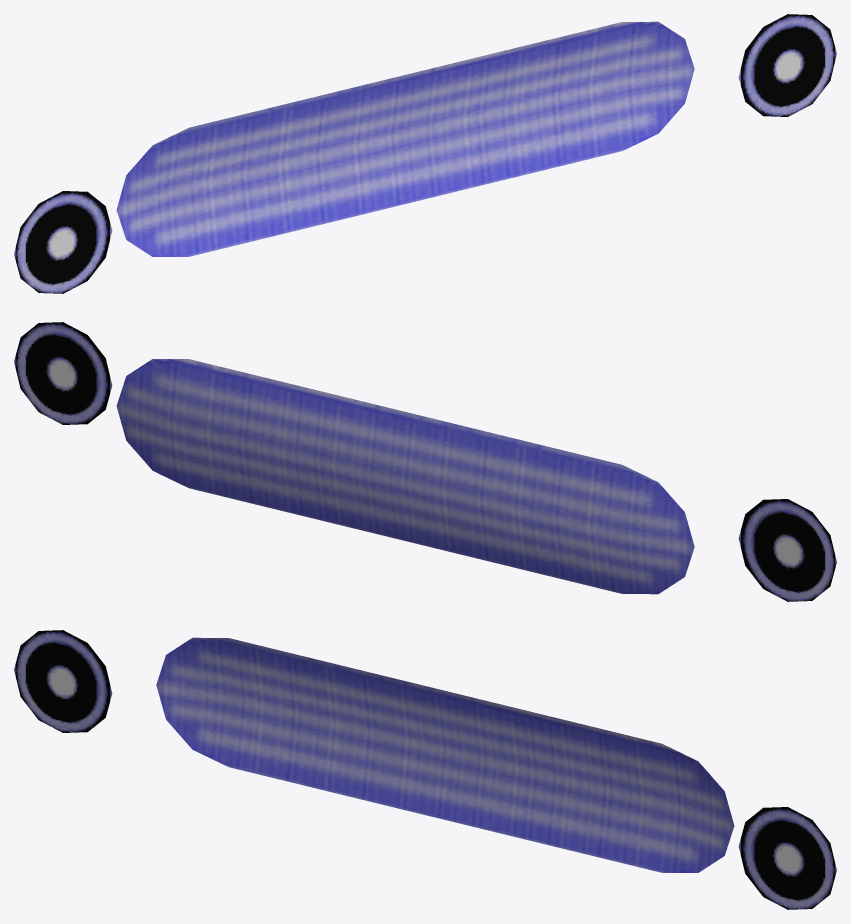
The model's file is yt1300_engine_s02_on_l0.fbx.
The picture shows the model from 3 angles, top to bottom: view 1: azimuth 30°, elevation 25°; view 2: azimuth 150°, elevation 25°; view 3: azimuth 330°, elevation 25°; orthographic projection.
Parts seen in each view (by area): view 1: mesh_node; view 2: mesh_node; view 3: mesh_node.
Part boxes in pixels (box(x1,y1,x2,y2)): mesh_node: box(14, 14, 836, 293); mesh_node: box(14, 322, 836, 601); mesh_node: box(14, 630, 836, 909).
Bounding box in the file's own units: 10.68 × 1.6 × 0.5872.
1 material, 1 textured.
